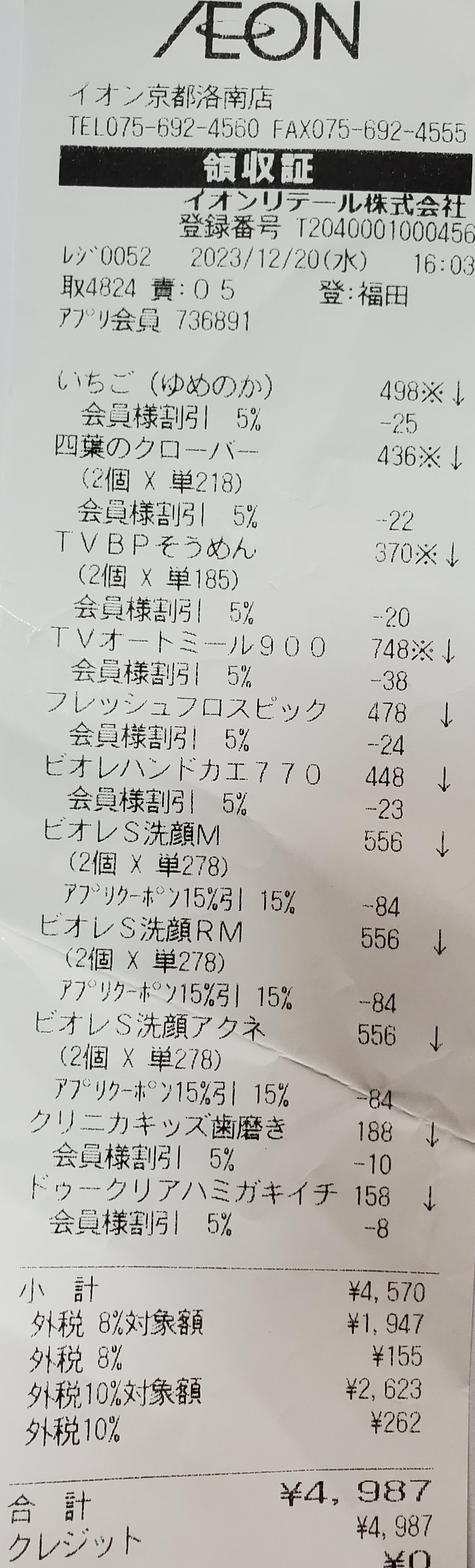Date: (176, 240, 324, 275)
Shopname: (146, 4, 398, 76)
Telnum: (102, 108, 262, 145)
Totalpay: (3, 1471, 444, 1515)
